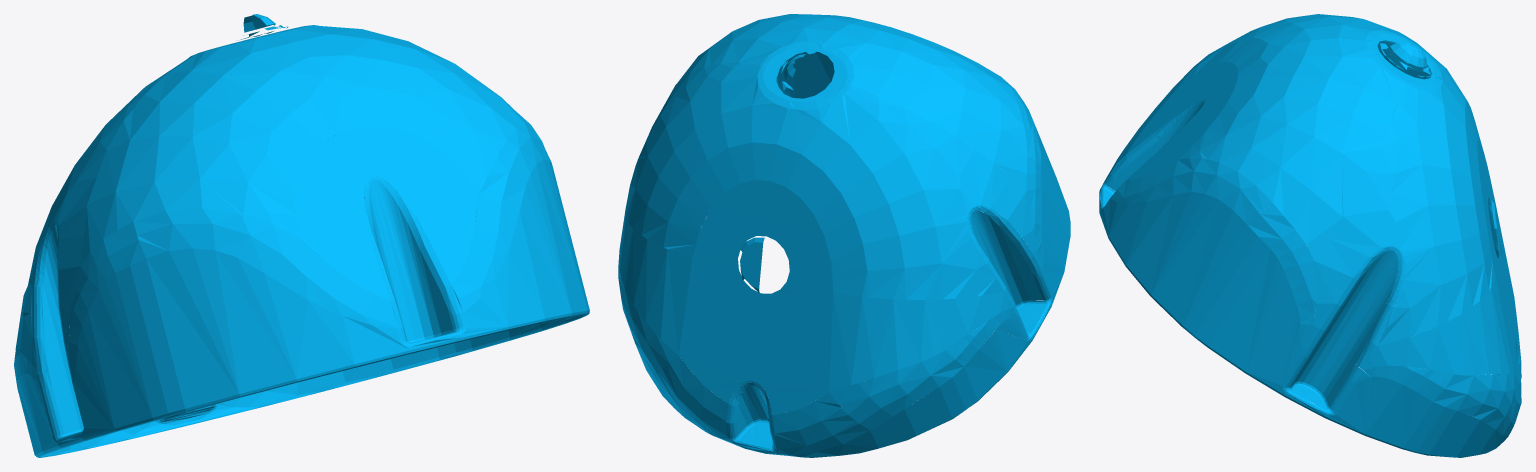
The picture shows the model from 3 angles, left to right: view 1: azimuth 30°, elevation 25°; view 2: azimuth 150°, elevation 25°; view 3: azimuth 270°, elevation 25°; orthographic projection. The views are drawn at different scales.
Visible parts, largest first — view 1: HC10.001; view 2: HC10.001; view 3: HC10.001.
Boxes of the visible parts, box(x1,y1,x2,y2) form: HC10.001: box(14, 14, 589, 457); HC10.001: box(618, 14, 1070, 457); HC10.001: box(1099, 14, 1521, 457).
Size of the model in its own units: 16.2 by 14.63 by 14.72.
